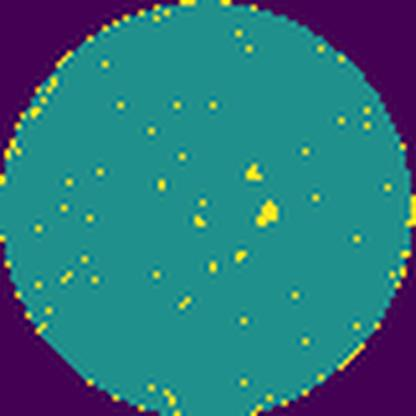Loc: (256, 197, 276, 226)
